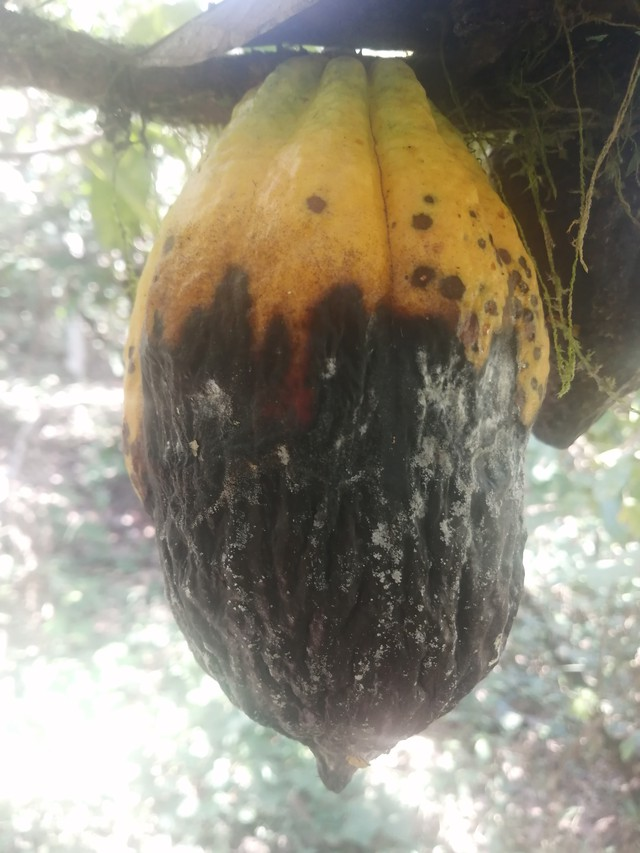moniliophthora roreri: (94, 35, 572, 806)
